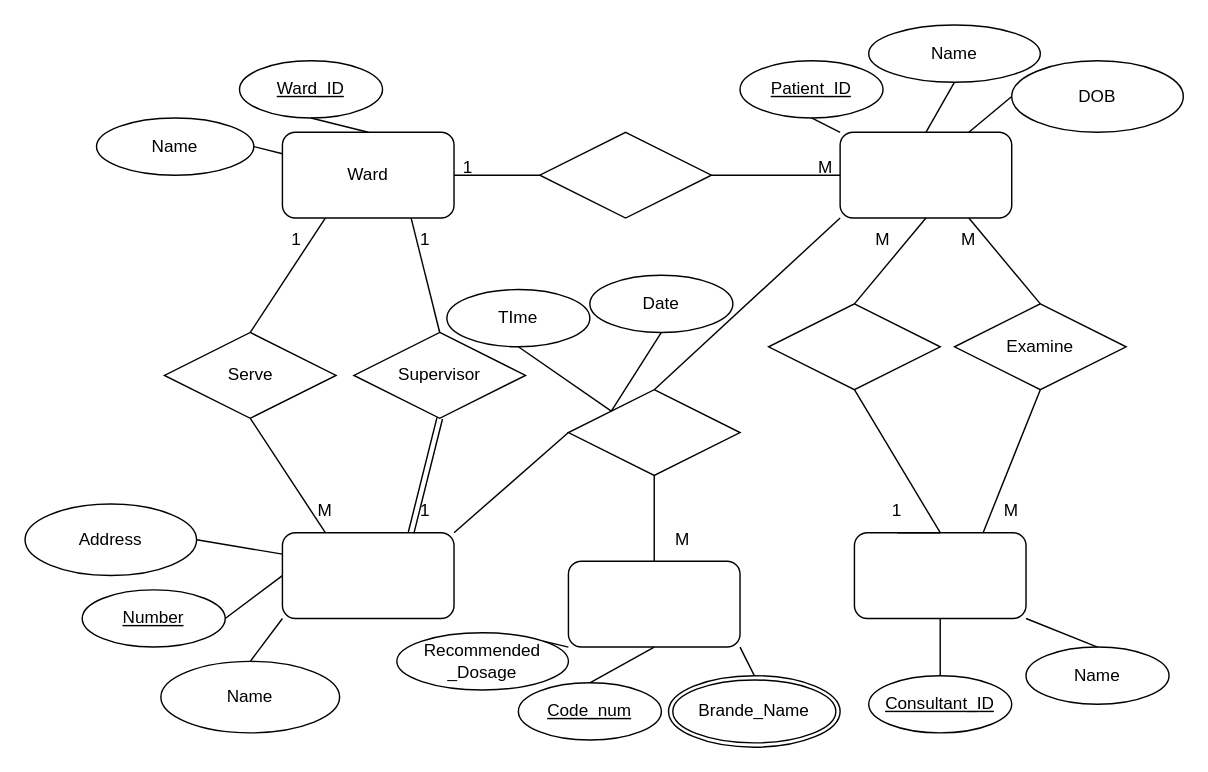
Some shapes in this 1208 by 772 pixel diagram are drawn without their labels. The shapes that lost their labels are listed below. From the top down, each one's centre as x and y in pixels, then its label:
the point at 624,174: Host
the point at 925,174: Patient
the point at 853,346: Assigned
the point at 653,431: record
the point at 367,574: Nurse
the point at 939,574: Consultant
the point at 653,603: Drug
